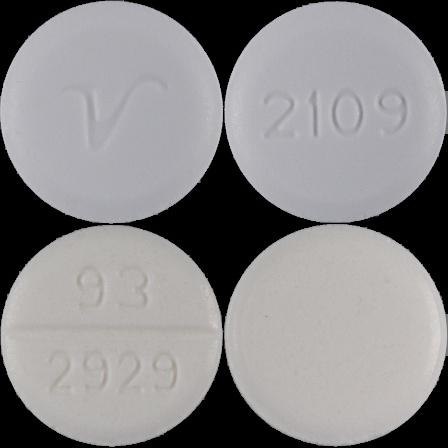53808-1029: (0, 0, 224, 224)
